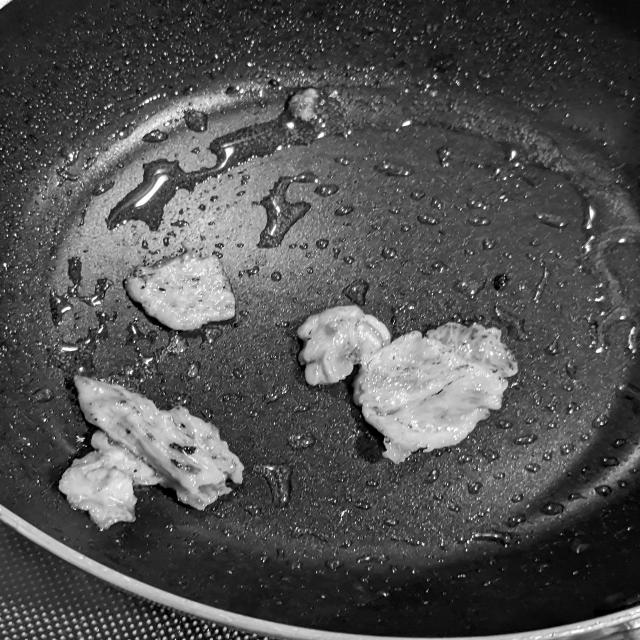OK cooked pork,: (290, 295, 534, 466), (45, 365, 255, 543), (112, 242, 250, 340)
